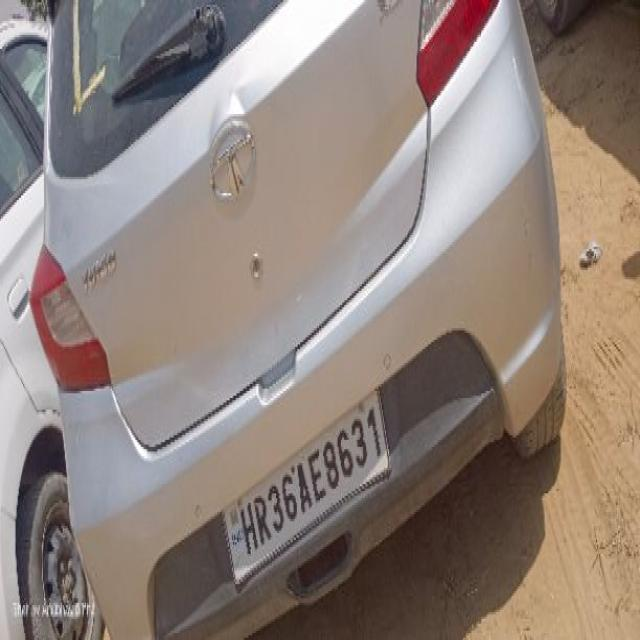license_plate: (221, 384, 391, 591)
